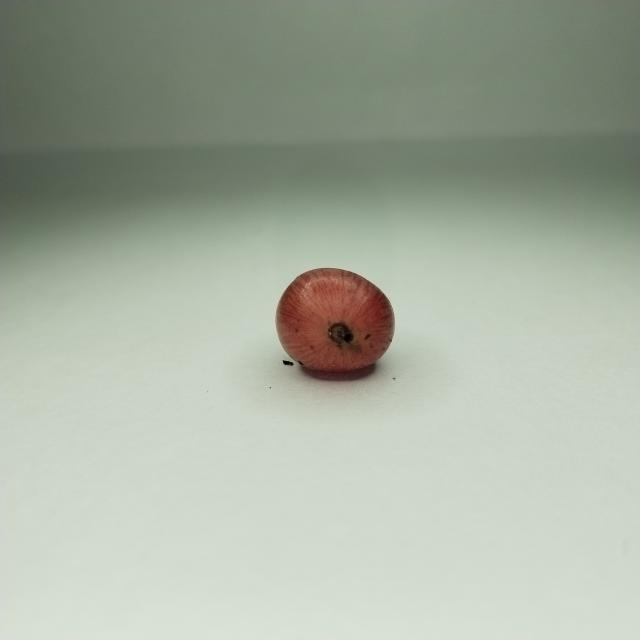Infectado: (275, 268, 397, 380)
